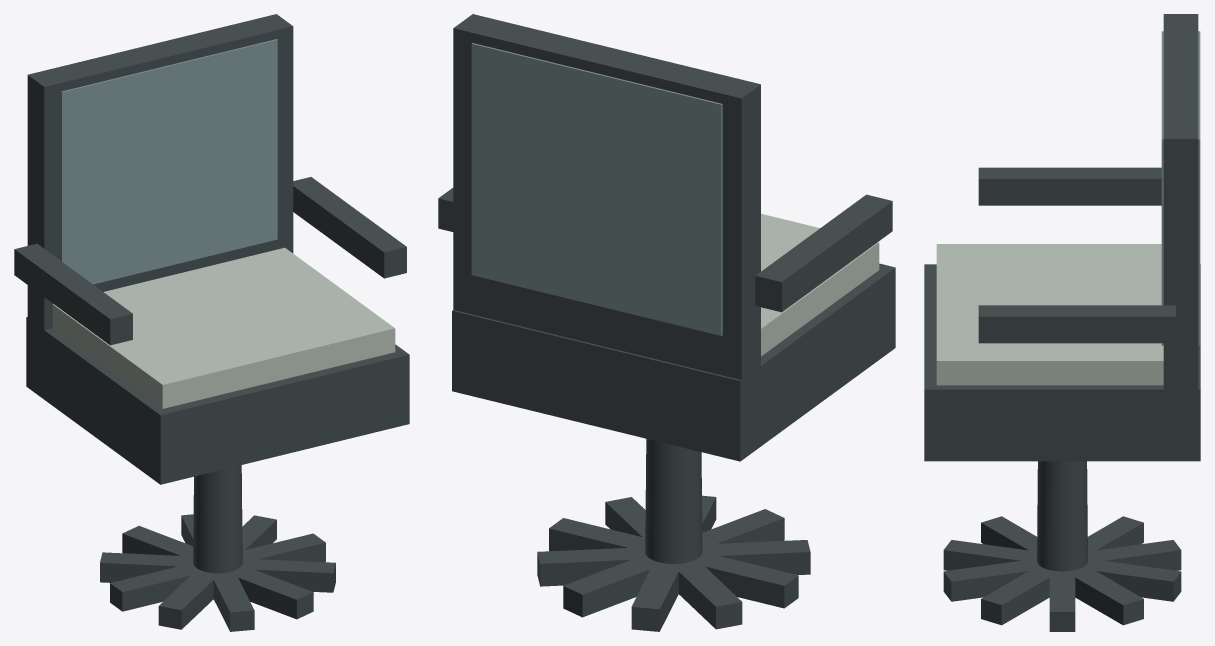
Rendered from chair_mesh.glb.
The picture shows the model from 3 angles, left to right: view 1: azimuth 30°, elevation 25°; view 2: azimuth 150°, elevation 25°; view 3: azimuth 270°, elevation 25°; orthographic projection. The views are drawn at different scales.
Visible parts, largest first — view 1: MeshCenter, SeatPad, MeshSeat, MeshBackFrame, Armrest, _MeshInstance3D_20, ChairPost, WheelSpoke, _MeshInstance3D_22, _MeshInstance3D_24, _MeshInstance3D_23, _MeshInstance3D_21; view 2: MeshCenter, MeshSeat, MeshBackFrame, Armrest, ChairPost, SeatPad, _MeshInstance3D_23, WheelSpoke, _MeshInstance3D_21, _MeshInstance3D_22, _MeshInstance3D_24; view 3: SeatPad, MeshSeat, MeshBackFrame, _MeshInstance3D_20, Armrest, ChairPost, _MeshInstance3D_21, _MeshInstance3D_24, _MeshInstance3D_23, _MeshInstance3D_22, MeshCenter, WheelSpoke.
Boxes of the visible parts, bbox=[...] form: MeshCenter: bbox=[61, 39, 277, 284]; SeatPad: bbox=[52, 247, 395, 408]; MeshSeat: bbox=[26, 317, 409, 484]; MeshBackFrame: bbox=[27, 14, 293, 330]; Armrest: bbox=[14, 243, 132, 345]; _MeshInstance3D_20: bbox=[293, 177, 406, 278]; ChairPost: bbox=[193, 465, 242, 573]; WheelSpoke: bbox=[110, 533, 325, 611]; _MeshInstance3D_22: bbox=[100, 552, 335, 592]; _MeshInstance3D_24: bbox=[122, 526, 313, 619]; _MeshInstance3D_23: bbox=[158, 515, 276, 629]; _MeshInstance3D_21: bbox=[181, 514, 254, 631]; MeshCenter: bbox=[471, 43, 722, 335]; MeshSeat: bbox=[452, 263, 895, 461]; MeshBackFrame: bbox=[453, 14, 760, 379]; Armrest: bbox=[755, 194, 892, 312]; ChairPost: bbox=[645, 438, 702, 563]; SeatPad: bbox=[761, 213, 879, 356]; _MeshInstance3D_23: bbox=[537, 540, 810, 586]; WheelSpoke: bbox=[549, 518, 798, 608]; _MeshInstance3D_21: bbox=[563, 509, 784, 617]; _MeshInstance3D_22: bbox=[605, 497, 742, 629]; _MeshInstance3D_24: bbox=[631, 495, 716, 631]; SeatPad: bbox=[936, 244, 1163, 385]; MeshSeat: bbox=[924, 264, 1200, 461]; MeshBackFrame: bbox=[1163, 14, 1198, 389]; _MeshInstance3D_20: bbox=[978, 305, 1175, 343]; Armrest: bbox=[978, 167, 1161, 205]; ChairPost: bbox=[1037, 461, 1087, 571]; _MeshInstance3D_21: bbox=[943, 540, 1181, 601]; _MeshInstance3D_24: bbox=[943, 540, 1181, 601]; _MeshInstance3D_23: bbox=[981, 516, 1143, 625]; _MeshInstance3D_22: bbox=[981, 516, 1143, 625]; MeshCenter: bbox=[1161, 31, 1200, 345]; WheelSpoke: bbox=[1049, 570, 1075, 631].
Size of the model in its own units: 0.715 by 1.13 by 0.56.
